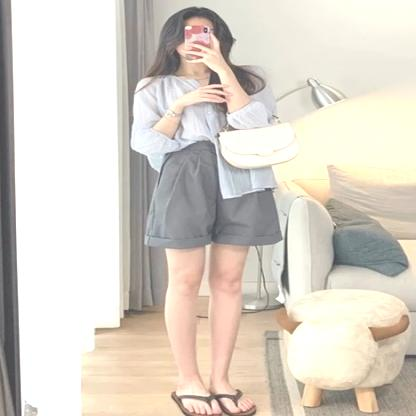dress: (126, 65, 290, 197)
jacket: (144, 136, 288, 249)
